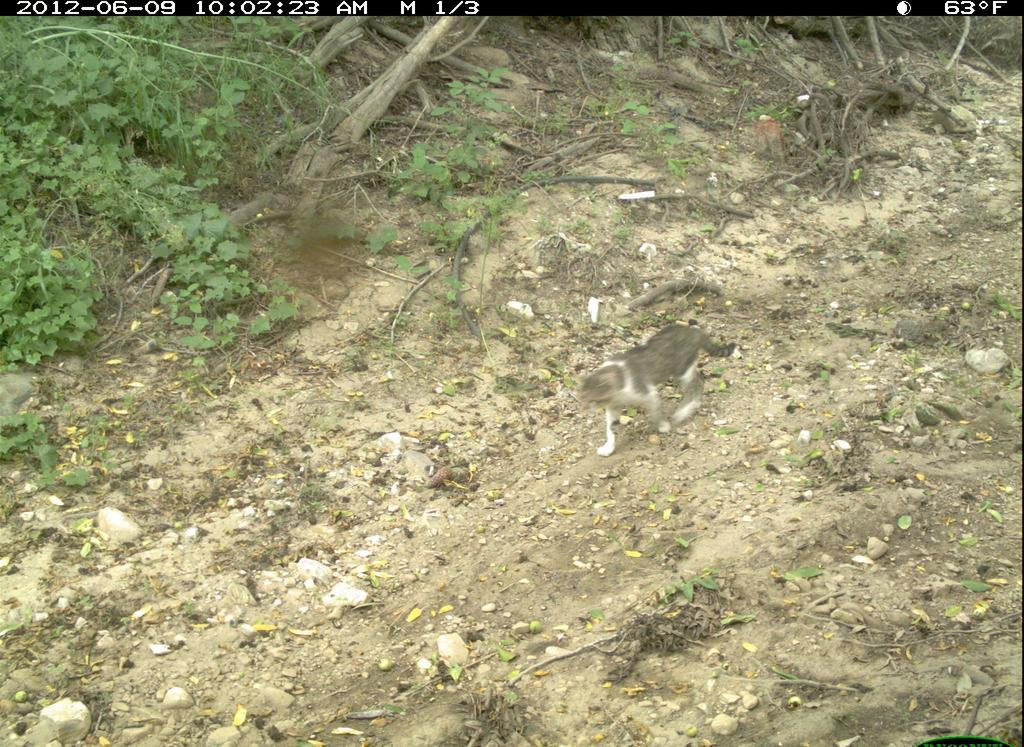cat: (574, 312, 739, 463)
